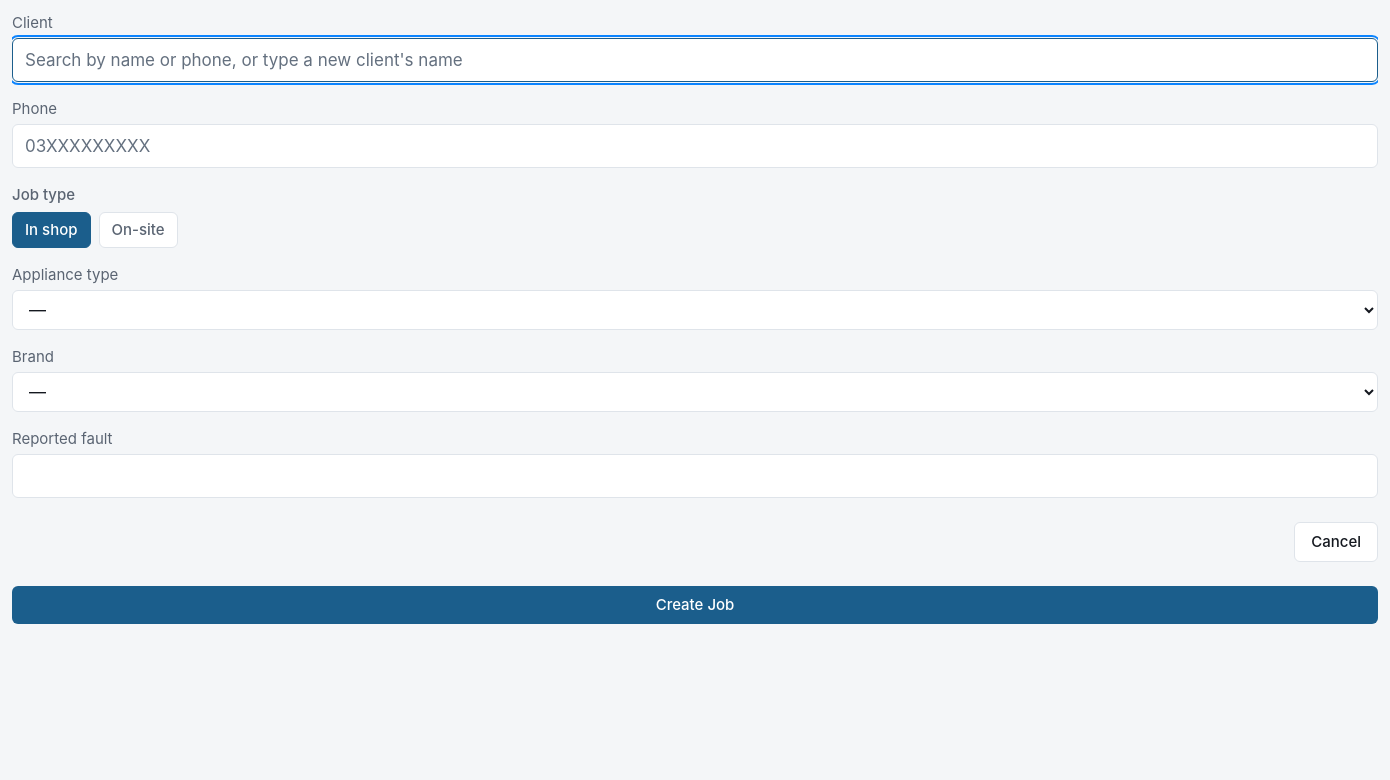
Scenario: JobCreateForm (P14-2) › blocks submission and shows an error when the phone field is empty
Type "Test Customer" into the field labelled "Client".
click(695, 60); type("Test Customer")  # box [12,38,1378,82]
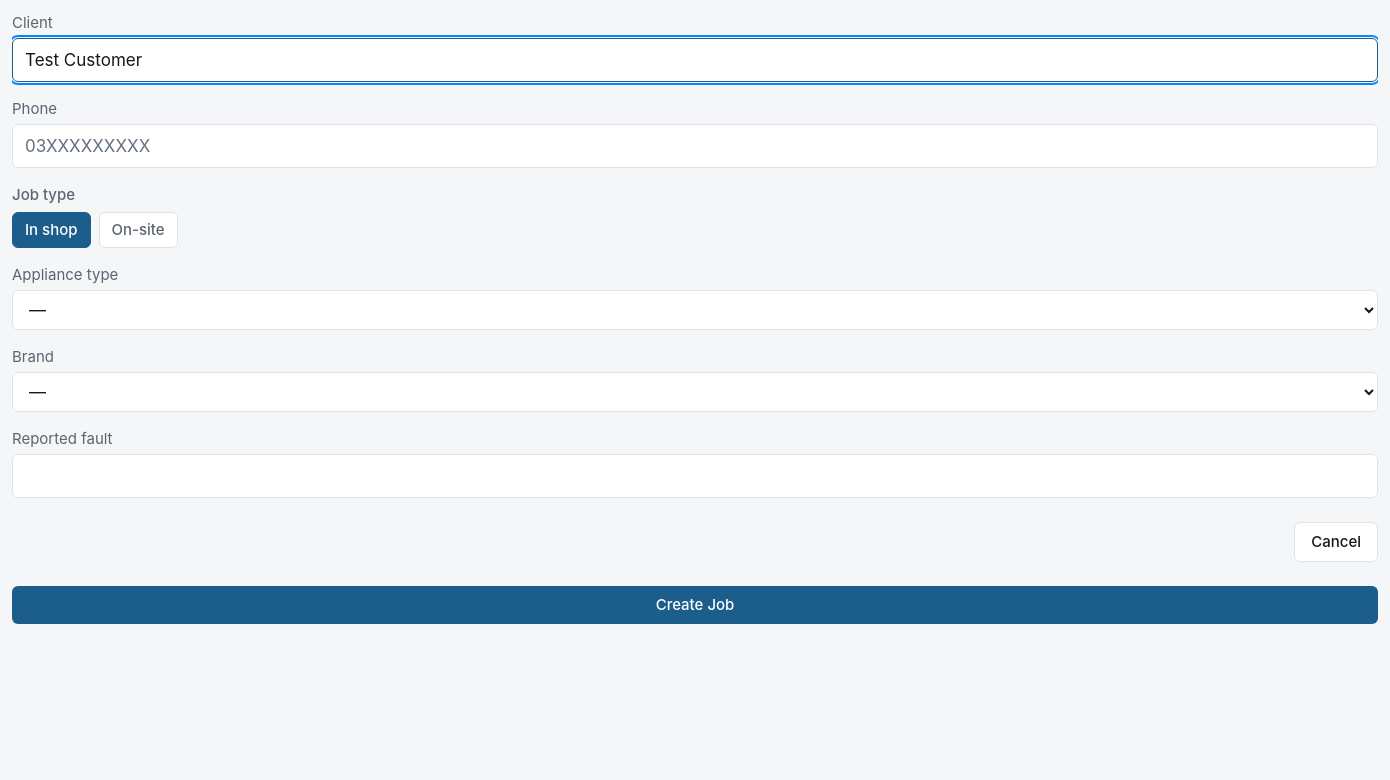
Select "Gree" in the dropdown labelled "Brand" at (695, 392), box [12,372,1378,412]
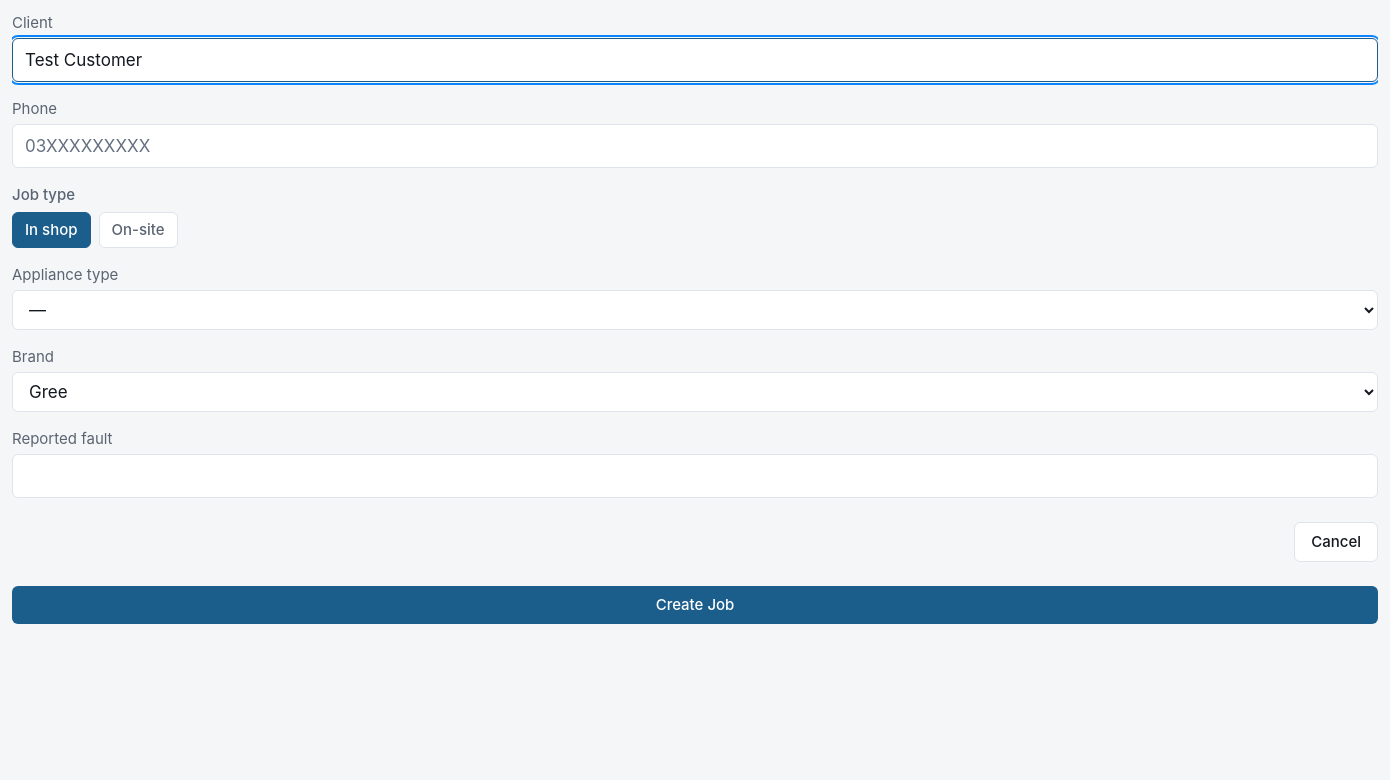
Type "Not cooling" into the field labelled "Reported fault".
click(695, 476); type("Not cooling")  # box [12,454,1378,498]
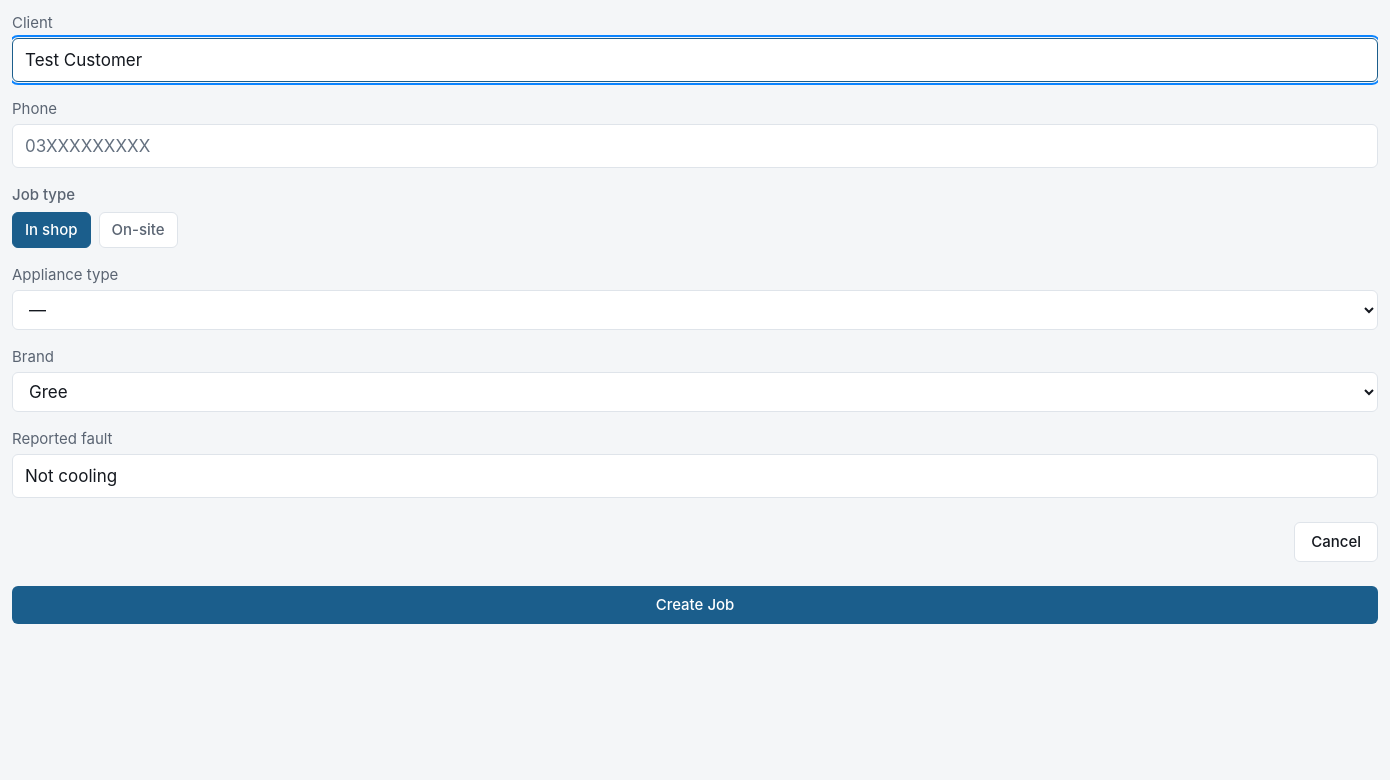
Click the button "Create Job".
click(695, 605)  # box [12,586,1378,624]
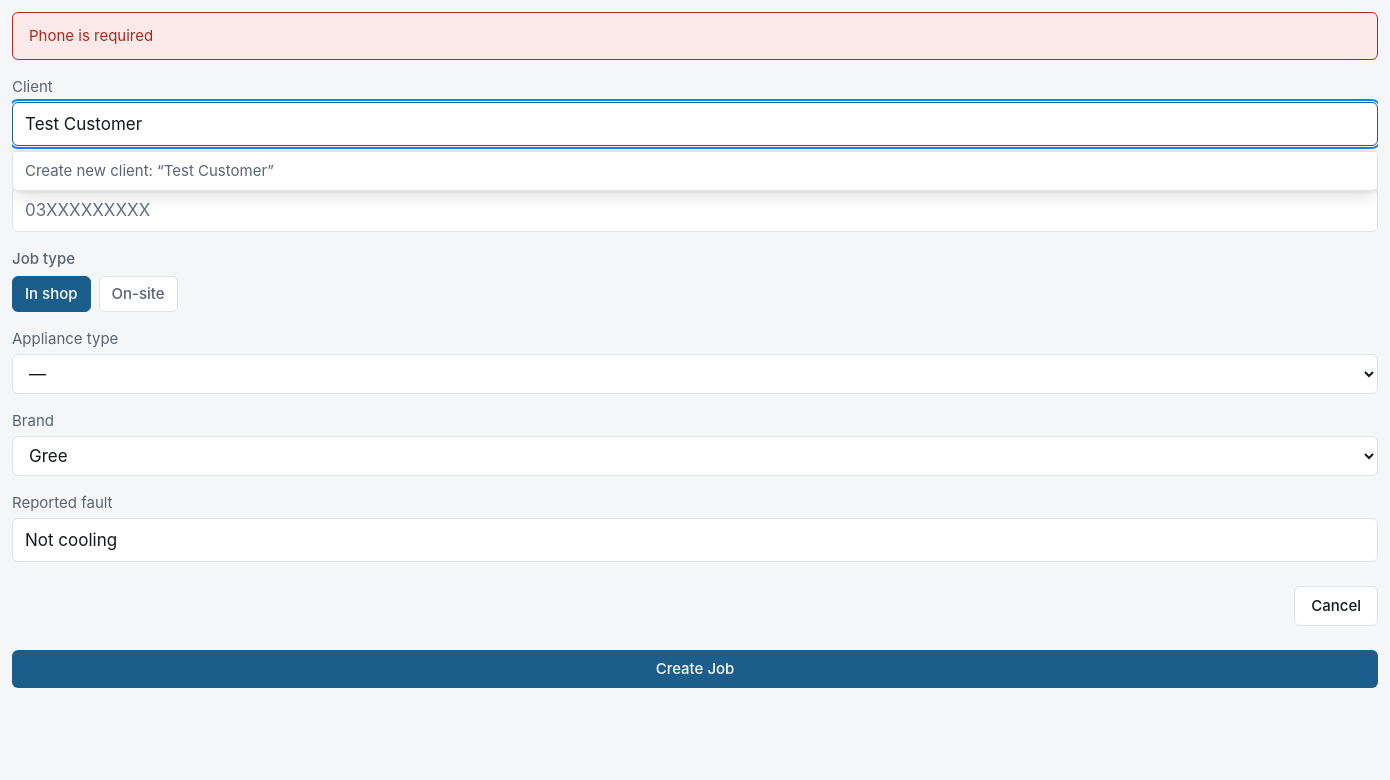
expect the text "Phone is required" is shown: met, box [29,25,153,47]
